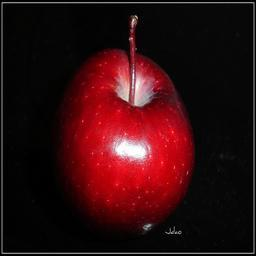apple: (49, 45, 190, 239)
